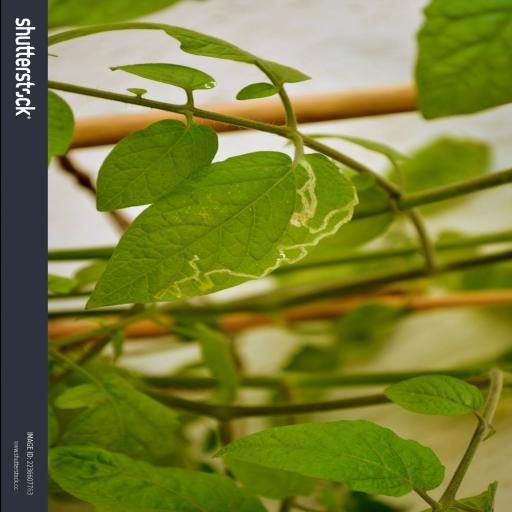disease_tomato: (84, 154, 360, 310)
